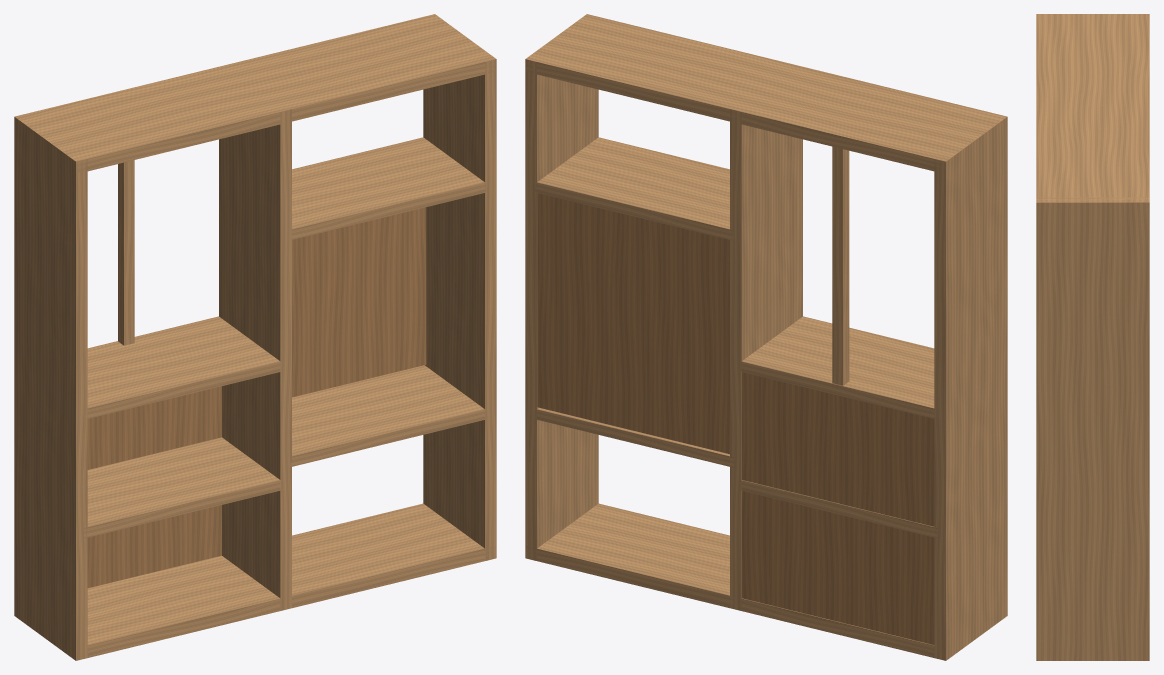
File: reference.glb
The picture shows the model from 3 angles, left to right: view 1: azimuth 30°, elevation 25°; view 2: azimuth 150°, elevation 25°; view 3: azimuth 270°, elevation 25°; orthographic projection. The views are drawn at different scales.
Visible parts, largest first — view 1: Oak upright (×3), Cap (×2), Offset shelf (×4), Inset back (×2), Open bay mullion; view 2: Inset back (×2), Oak upright (×3), Cap (×2), Offset shelf (×4), Open bay mullion; view 3: Oak upright, Cap.
Part boxes in pixels (x1,y1,x2,y2): Oak upright (×3): (14,14,496,660); Cap (×2): (15,14,495,657); Offset shelf (×4): (84,137,487,538); Inset back (×2): (87,207,426,588); Open bay mullion: (118,160,134,345); Inset back (×2): (537,193,934,644); Oak upright (×3): (525,14,1007,660); Cap (×2): (525,14,1006,657); Offset shelf (×4): (534,137,937,538); Open bay mullion: (832,146,849,385); Oak upright: (1036,197,1149,660); Cap: (1036,14,1149,202).
Bounding box in the file's own units: 1.26 × 1.43 × 0.32.
Materials: 2 (2 with a texture image).
